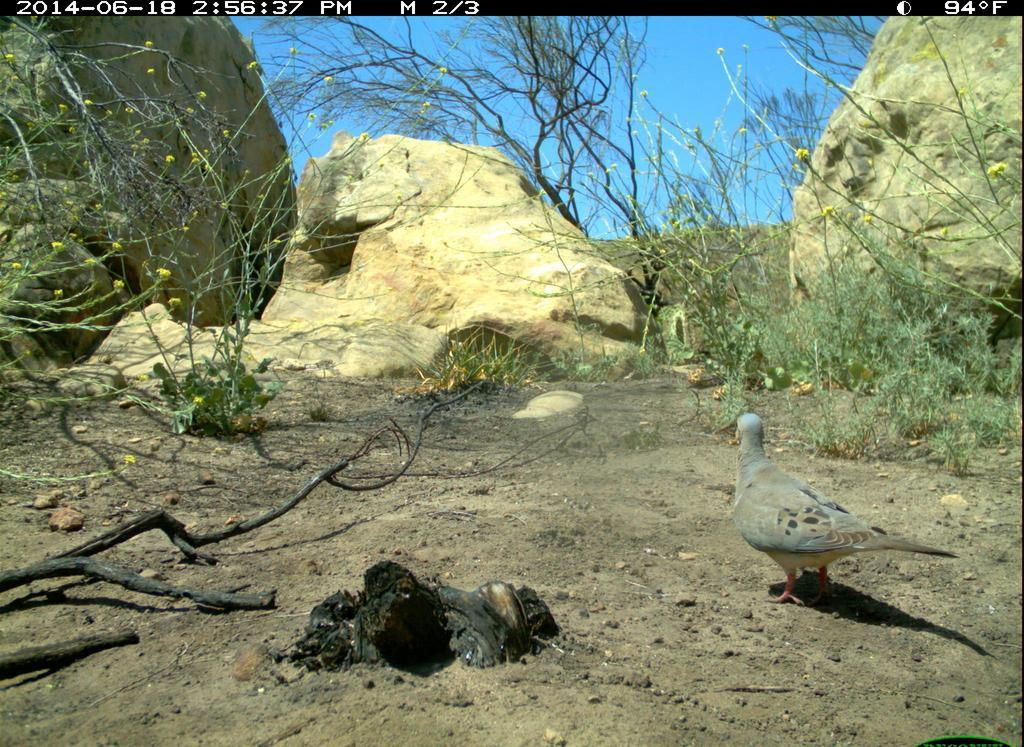bird: (724, 400, 968, 617)
